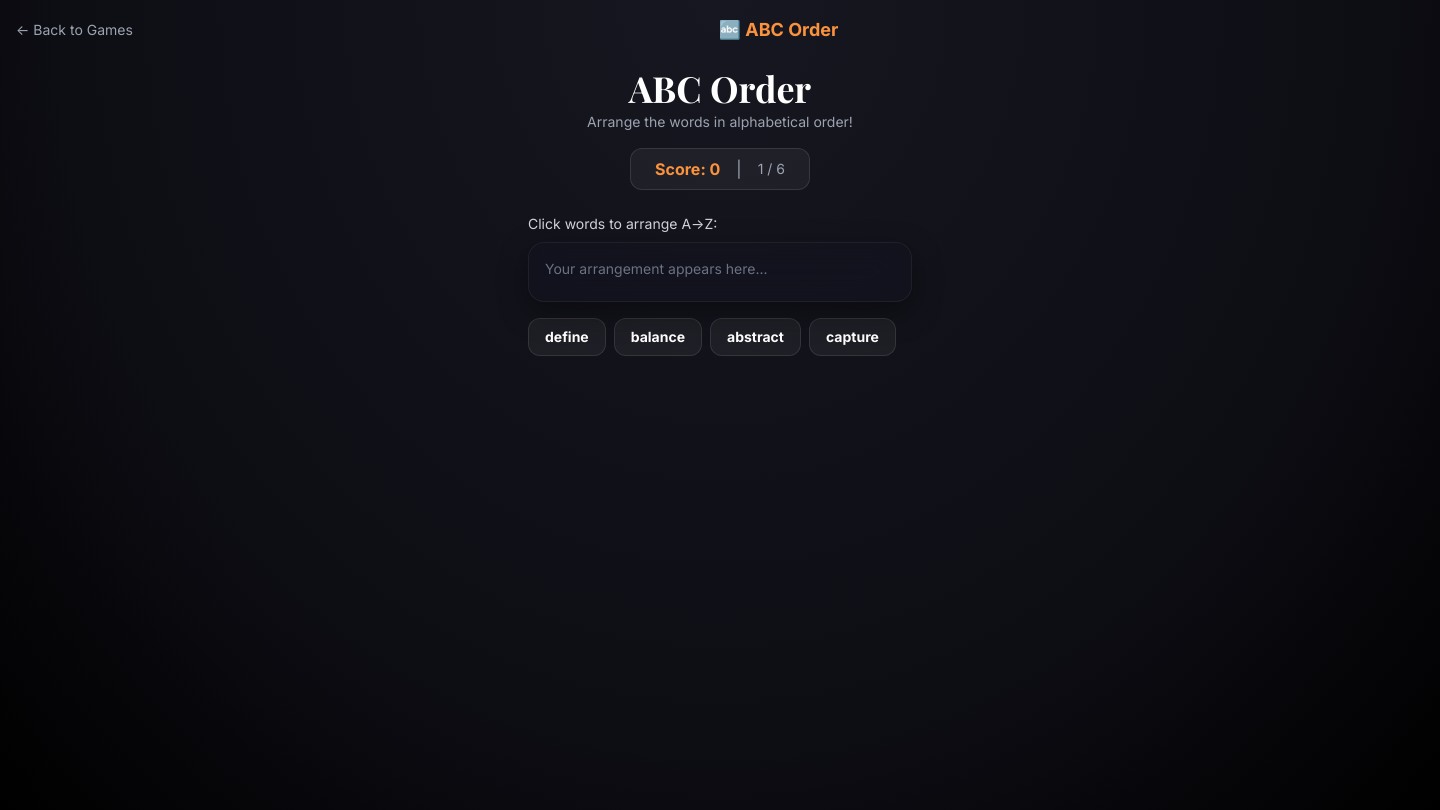
Test case: ABCOrder game logic › shows Check button when all words are arranged
Click the button "define" at (567, 337), box [528, 318, 606, 356]
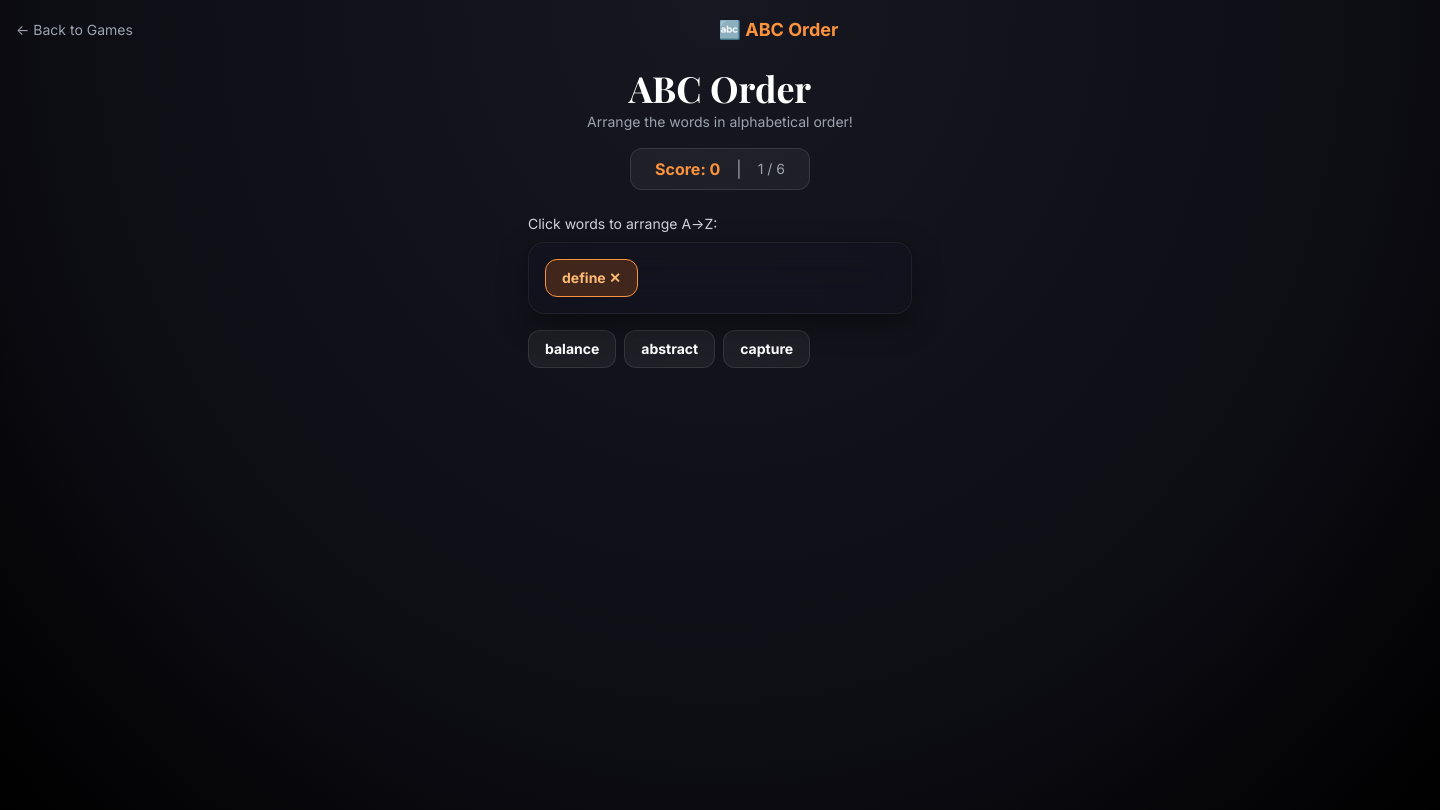
Click the button "balance" at (572, 349), box [528, 330, 616, 368]
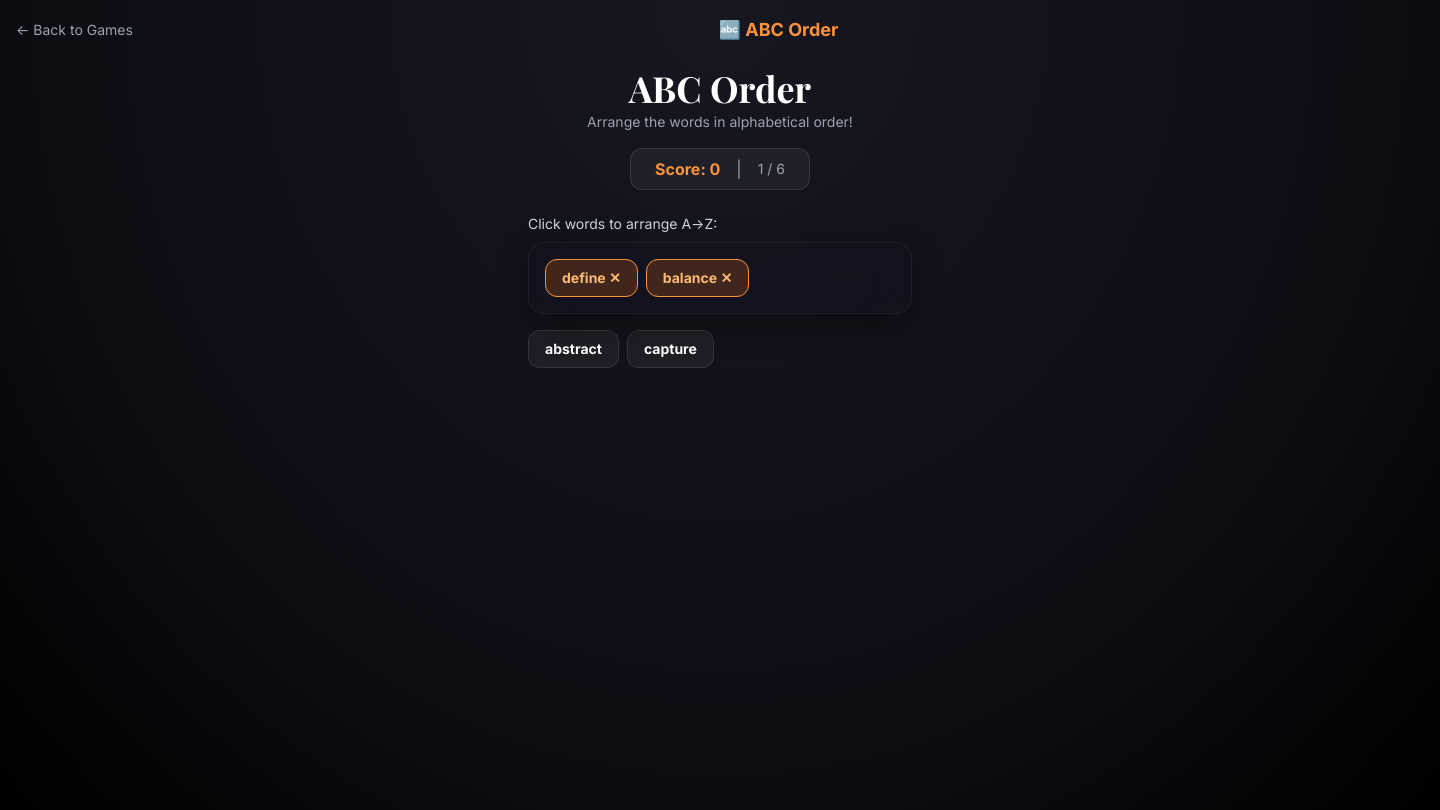
Click the button "abstract" at (573, 349), box [528, 330, 619, 368]
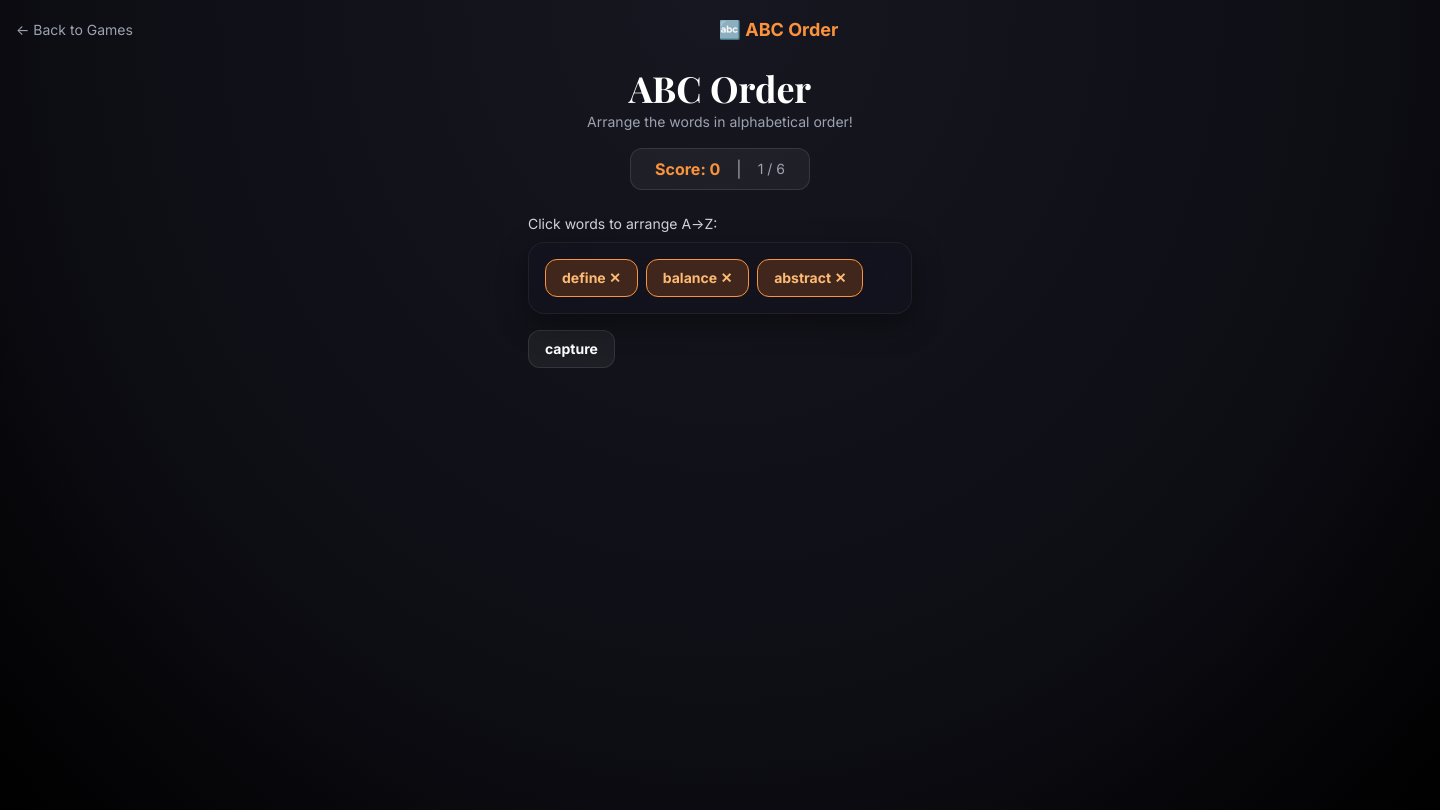
Click the button "capture" at (571, 349), box [528, 330, 615, 368]
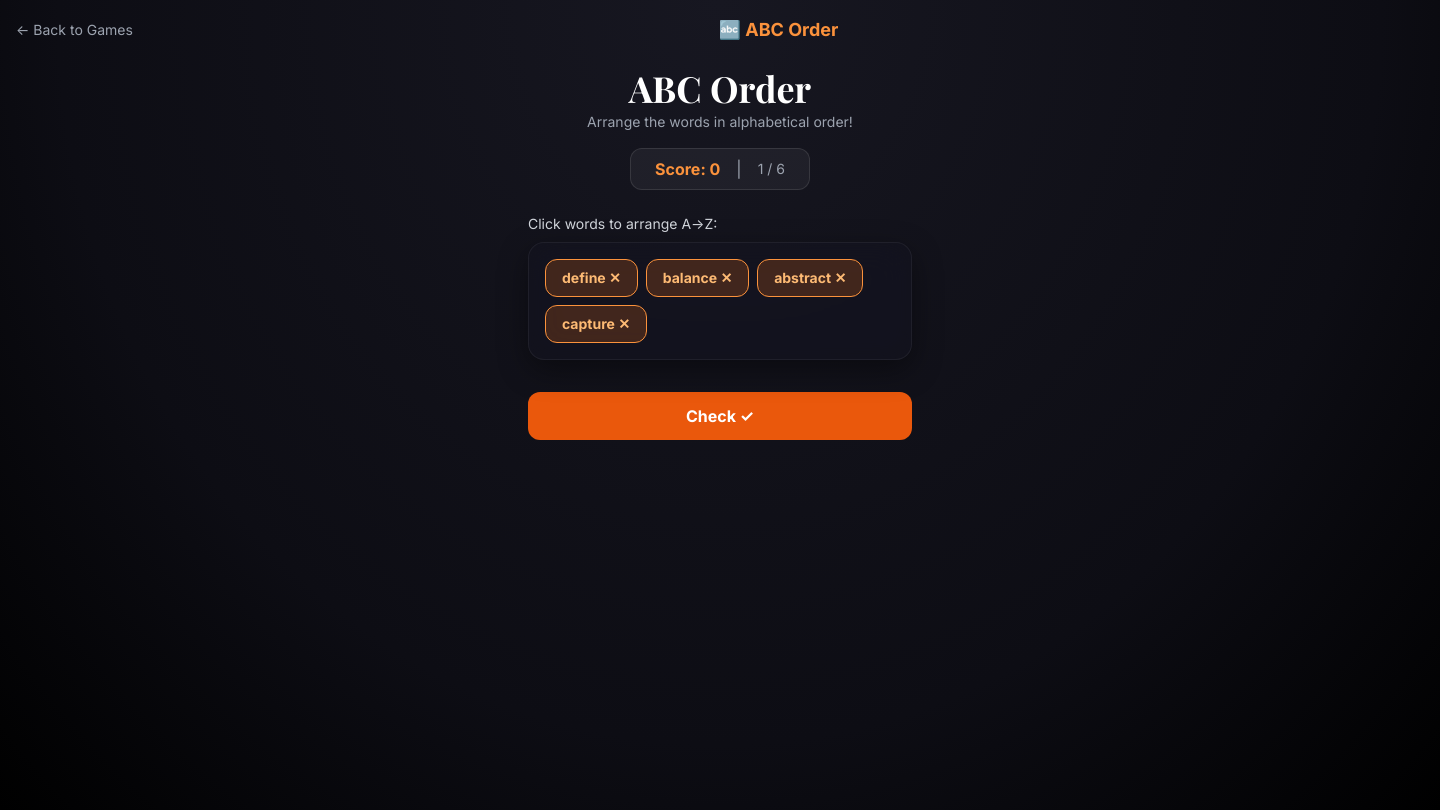
Result: the button "Check ✓" is shown at [528, 392, 912, 440]
